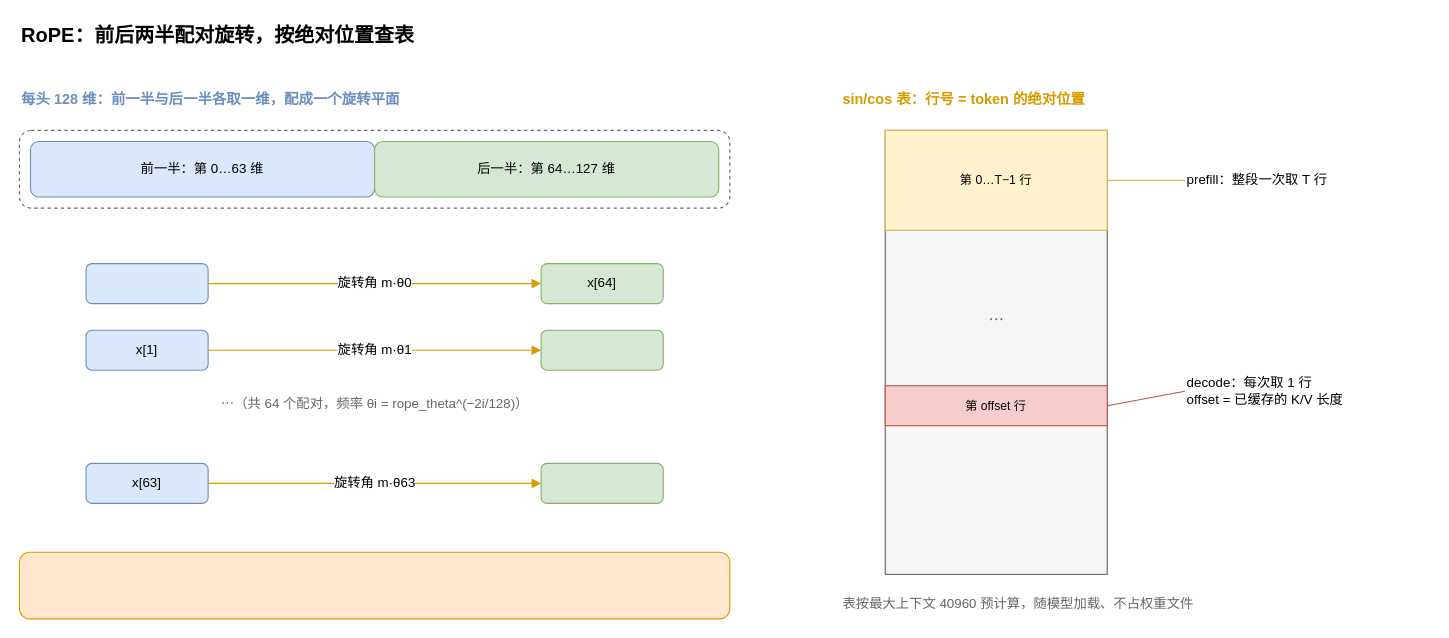
Some shapes in this 1449 by 638 pixel diagram are drawn without their labels. The shapes that lost their labels are listed below. From the top down, each one's box as (x1, y1, x2, y2) in pixels, then its label:
(85, 263, 208, 304): x[0]
(540, 329, 663, 370): x[65]
(540, 462, 663, 503): x[127]
(18, 551, 730, 619): [a, b] → [a·cos − b·sin, a·sin + b·cos] （m = token 的绝对位置）
